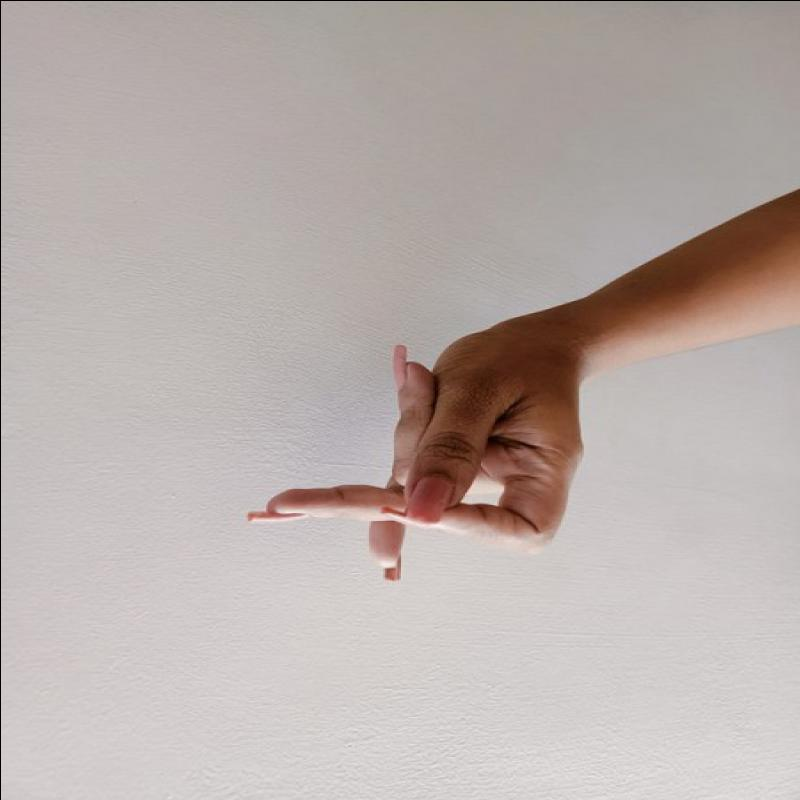Katakam: (232, 322, 593, 619)
